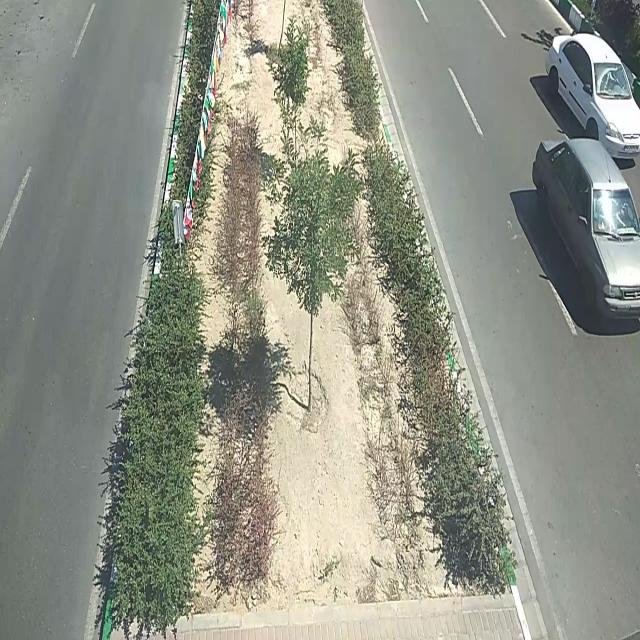car: (530, 140, 640, 324), (542, 28, 639, 165)
